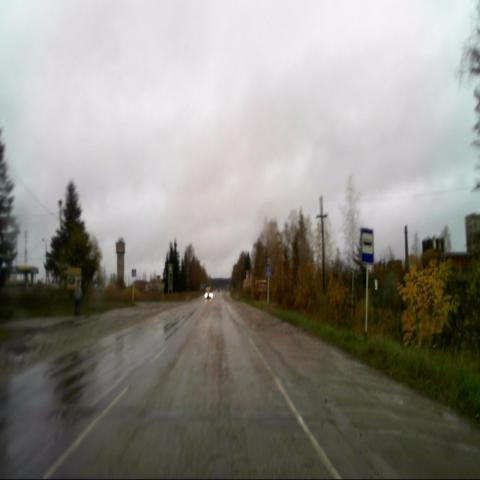5_16: (360, 227, 375, 264)
5_19_1: (264, 264, 272, 276)
